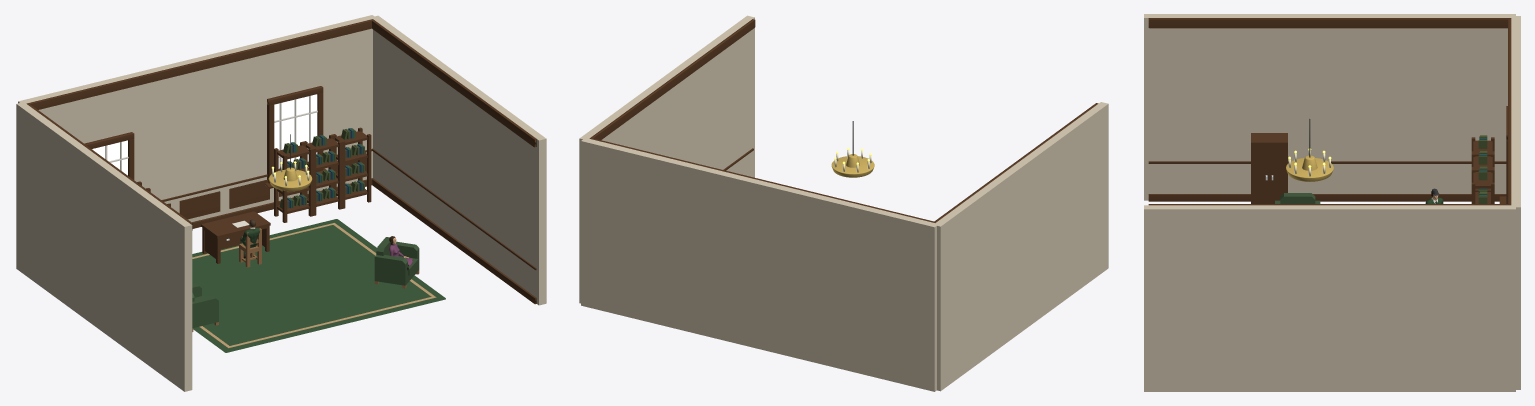
Rendered from belvedere.glb.
3 views of the same model, side by side, from view 1: azimuth 30°, elevation 25°; view 2: azimuth 150°, elevation 25°; view 3: azimuth 270°, elevation 25° (orthographic). The views are drawn at different scales.
Parts seen in each view (by area): view 1: wall_left, wall_back, wall_right, box.036, box.006, box.034, pane.001, box.008, desk(Clone).001, loungeChair(Clone).002, bookcaseOpen(Clone).004, box.002 (+13 smaller); view 2: wall_back, wall_left, wall_right, box.008, box.006, cyl.001, box.007; view 3: wall_right, wall_left, box.007, wall_back, box.001, doorLeft.001, bookcaseClosedDoors(Clone).001, doorRight.001, box.004, box.006, cyl.001, box.008 (+2 smaller).
Boxes of the visible parts, <box> form: wall_left: <box>16,102,192,391</box>; wall_back: <box>18,15,375,222</box>; wall_right: <box>371,15,546,305</box>; box.036: <box>192,225,431,345</box>; box.006: <box>27,19,372,109</box>; box.034: <box>192,219,445,352</box>; pane.001: <box>274,94,317,168</box>; box.008: <box>372,19,536,147</box>; desk(Clone).001: <box>201,211,270,263</box>; loungeChair(Clone).002: <box>374,237,419,288</box>; bookcaseOpen(Clone).004: <box>274,141,313,222</box>; box.002: <box>372,178,536,304</box>; wall_back: <box>581,138,938,391</box>; wall_left: <box>935,102,1108,391</box>; wall_right: <box>579,15,754,303</box>; box.008: <box>590,19,755,139</box>; box.006: <box>590,138,934,222</box>; cyl.001: <box>831,156,874,177</box>; box.007: <box>934,103,1098,222</box>; wall_right: <box>1144,205,1515,391</box>; wall_left: <box>1144,14,1515,200</box>; box.007: <box>1148,18,1510,28</box>; wall_back: <box>1511,16,1520,389</box>; box.001: <box>1148,194,1506,201</box>; doorLeft.001: <box>1254,145,1269,203</box>; bookcaseClosedDoors(Clone).001: <box>1251,133,1287,203</box>; doorRight.001: <box>1269,145,1284,203</box>; box.004: <box>1148,161,1506,163</box>; box.006: <box>1508,18,1511,204</box>; cyl.001: <box>1286,158,1333,181</box>; box.008: <box>1148,204,1510,205</box>.
Size of what is drawn, in the model's own units: 11.48 by 5.06 by 9.48.
